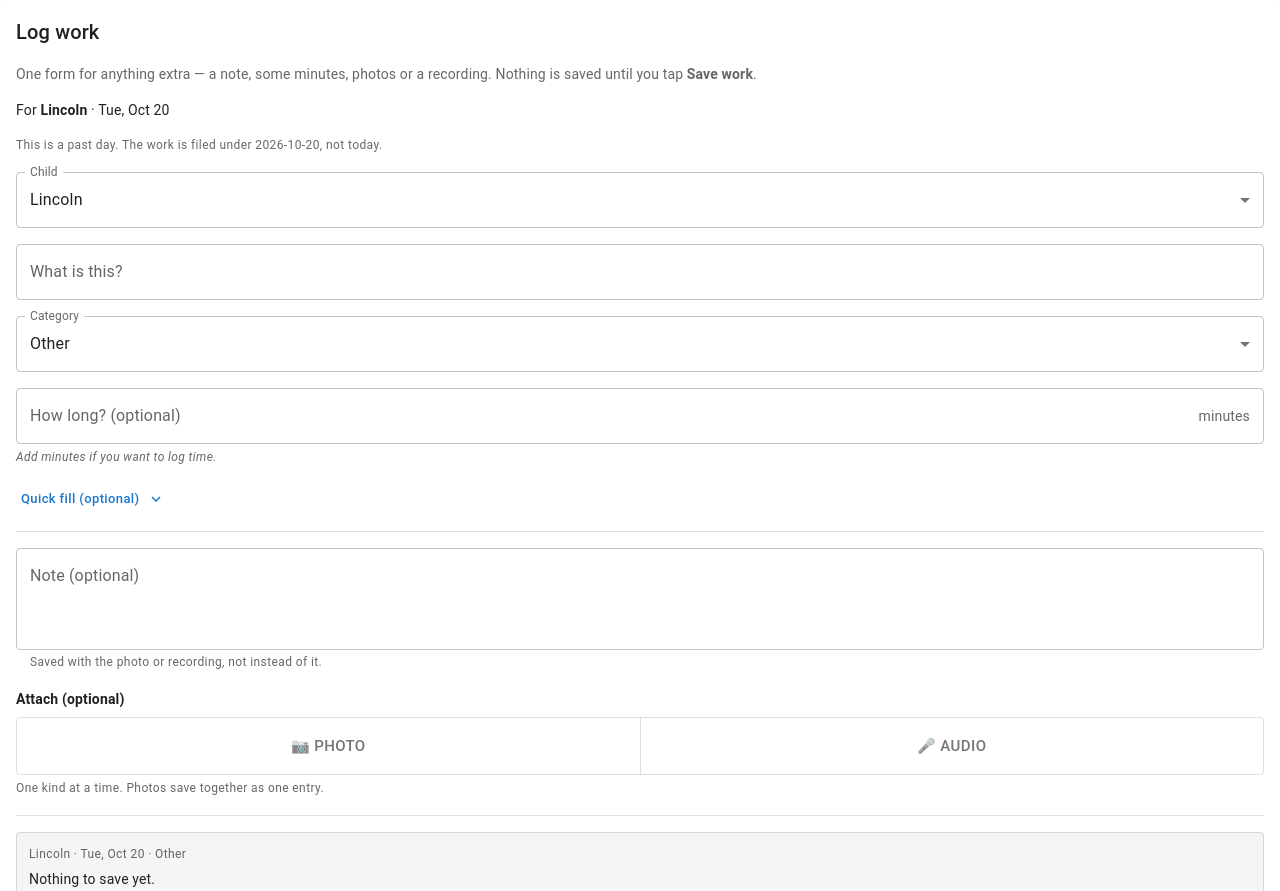
Test: LogWorkCard — Stop waiting after an unanswered hours write › says which child and day it is finishing, and promises nothing it cannot keep
Type "Built a tower" into the text box labelled "Note (optional)" at coordinates (640, 599), box x1=30 y1=564 x2=1250 y2=633
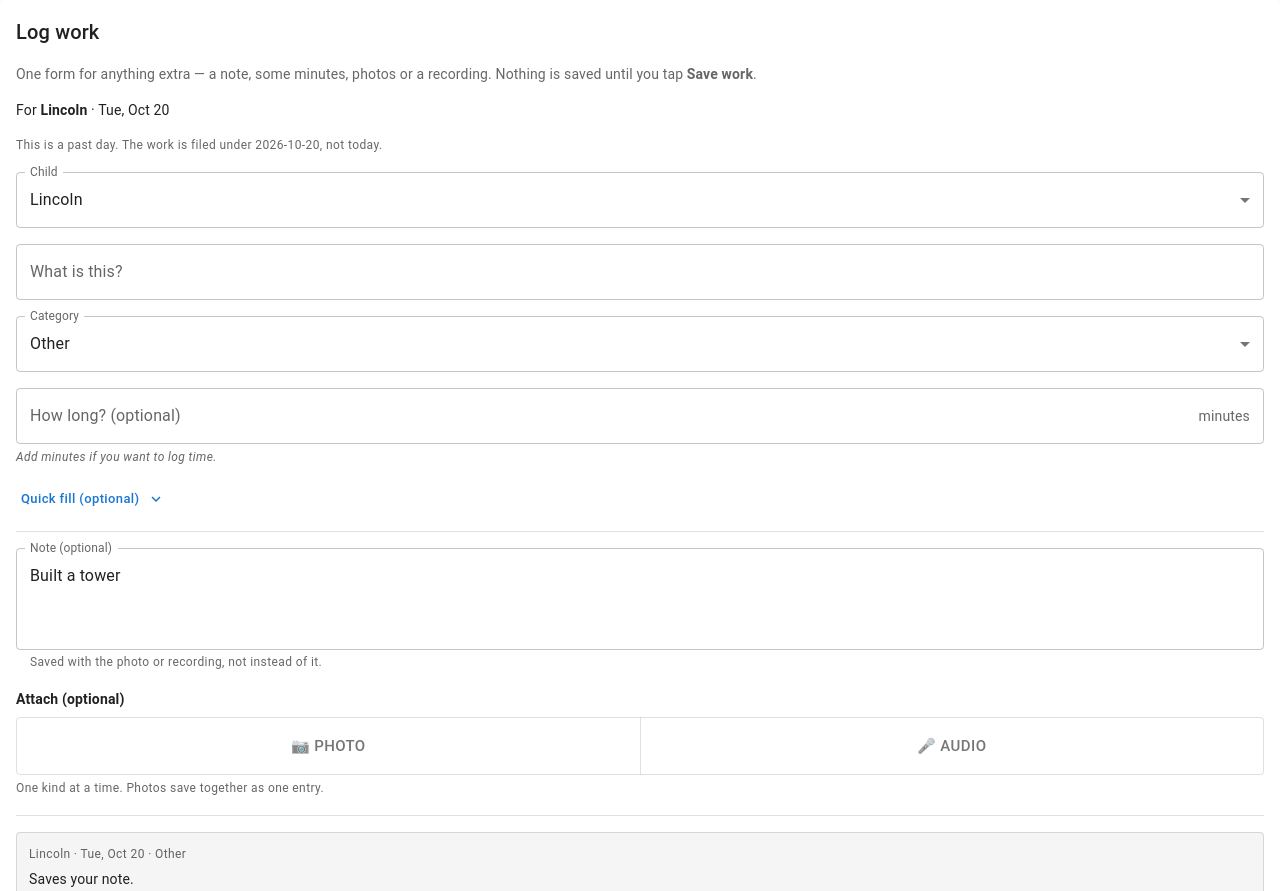
Type "27" into the number field named "Duration in minutes" at coordinates (603, 416), box x1=16 y1=388 x2=1191 y2=444
(page scrolled)
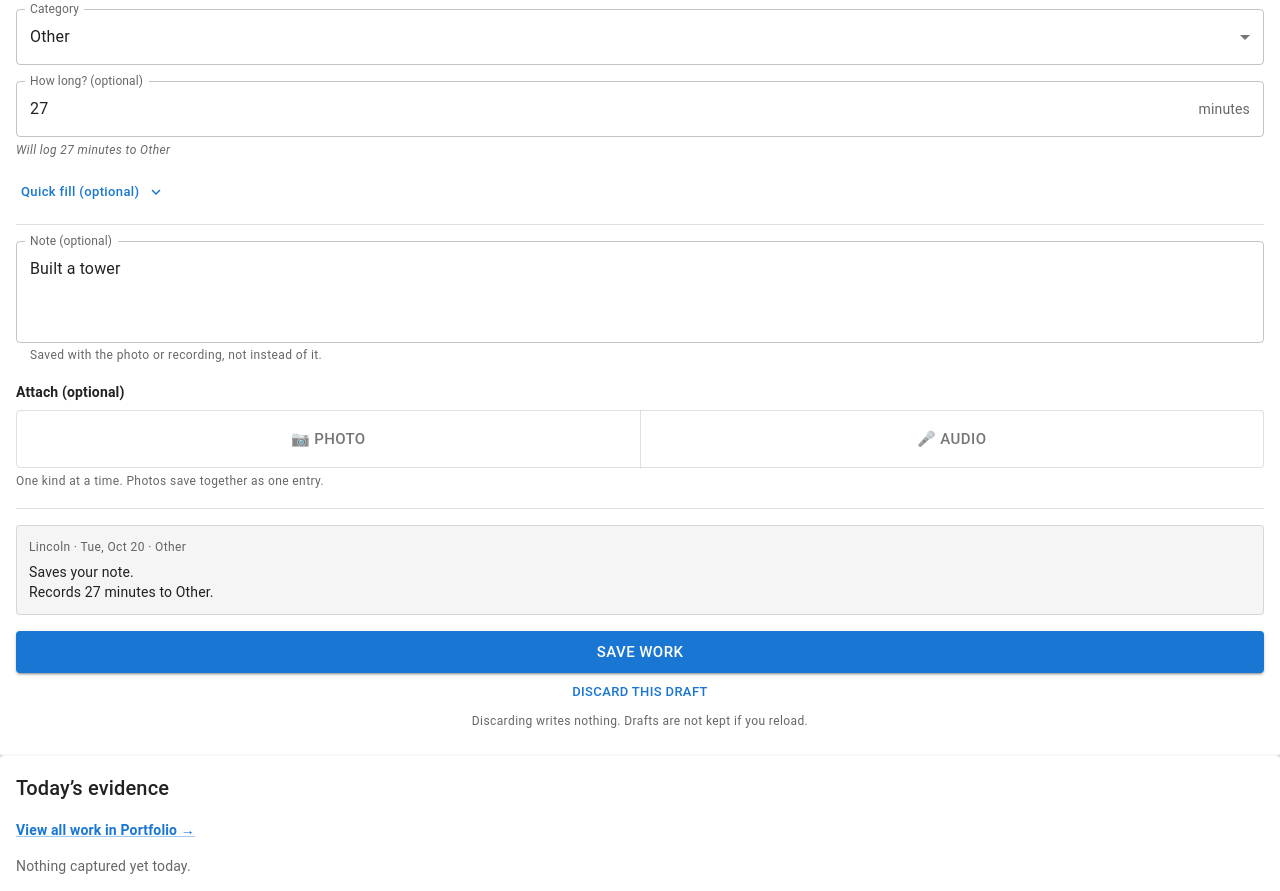
Click the button "Save work" at coordinates (640, 652), box x1=16 y1=631 x2=1264 y2=673
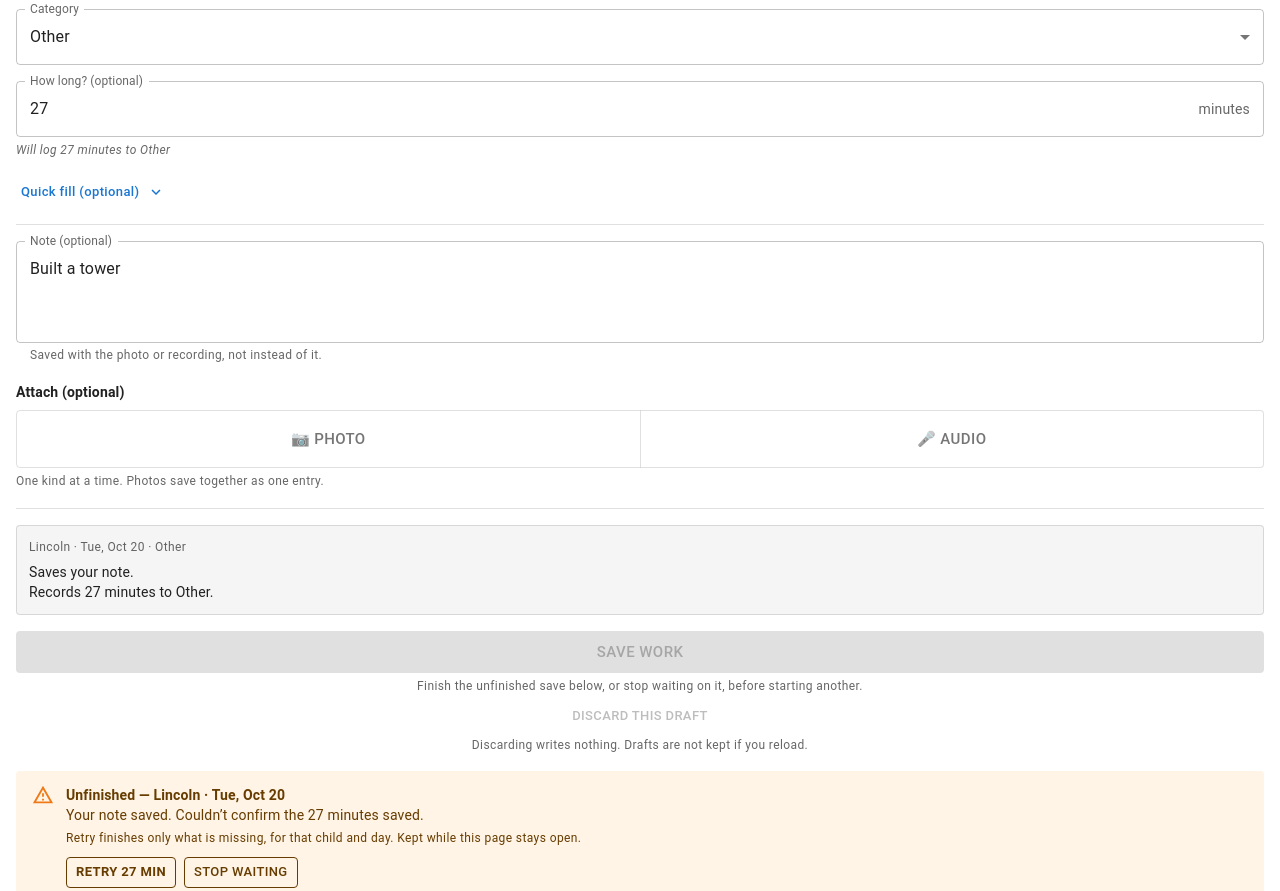
Replace the text in the text box labelled "Note (optional)" with "A different thing" at coordinates (640, 292), box x1=30 y1=257 x2=1250 y2=326
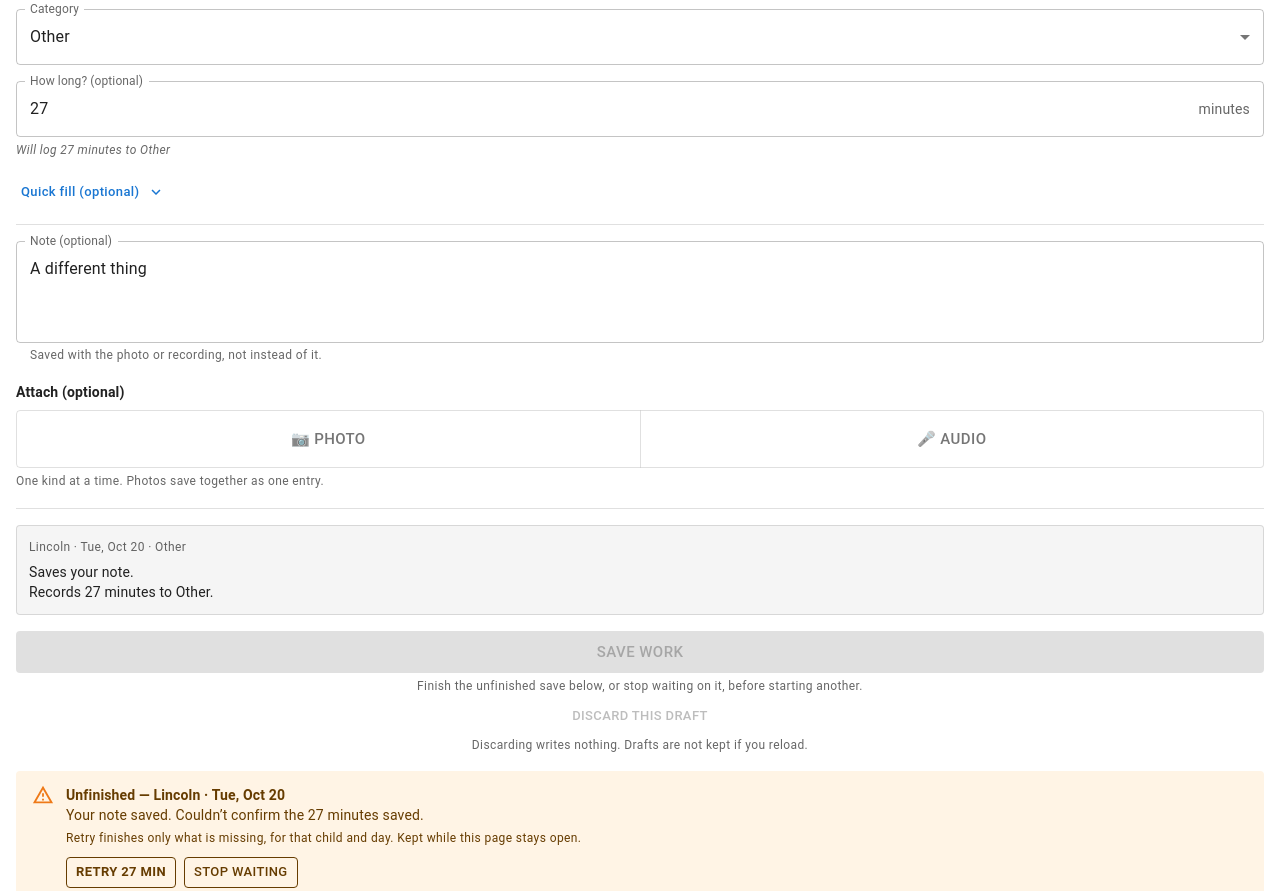
Click the button "Stop waiting" at coordinates (241, 873), box x1=184 y1=857 x2=298 y2=888
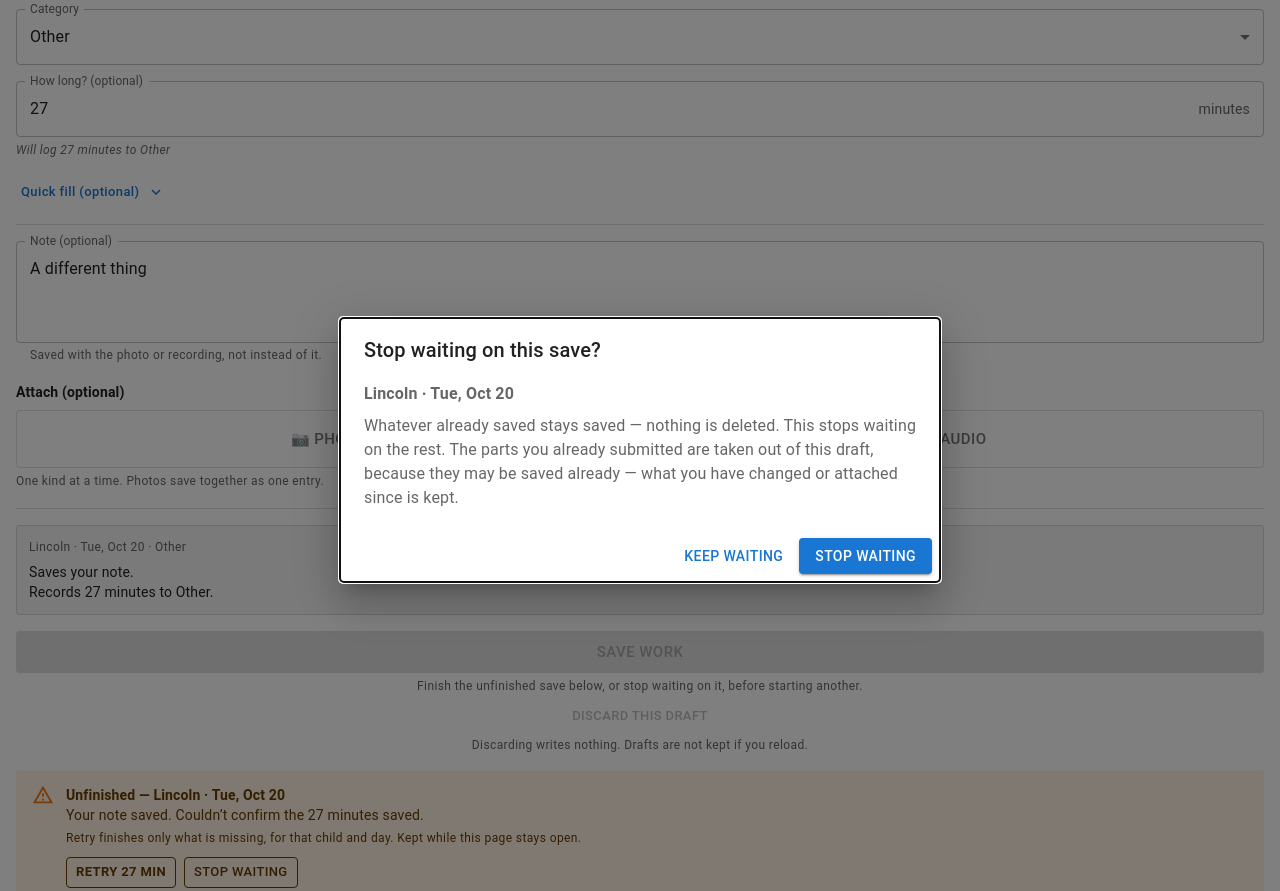
Now the dialog shows "Lincoln · Tue, Oct 20", box x1=340 y1=318 x2=940 y2=582
Now the dialog shows "Whatever already saved stays saved — nothing is deleted.", box x1=364 y1=416 x2=916 y2=507
Now the dialog shows "The parts you already submitted are taken out of this draft, because they may be saved already — what you have changed or attached since is kept.", box x1=364 y1=416 x2=916 y2=507
// Declining does nothing at all.
Click the button "Keep waiting" at coordinates (734, 556), box x1=676 y1=538 x2=791 y2=574
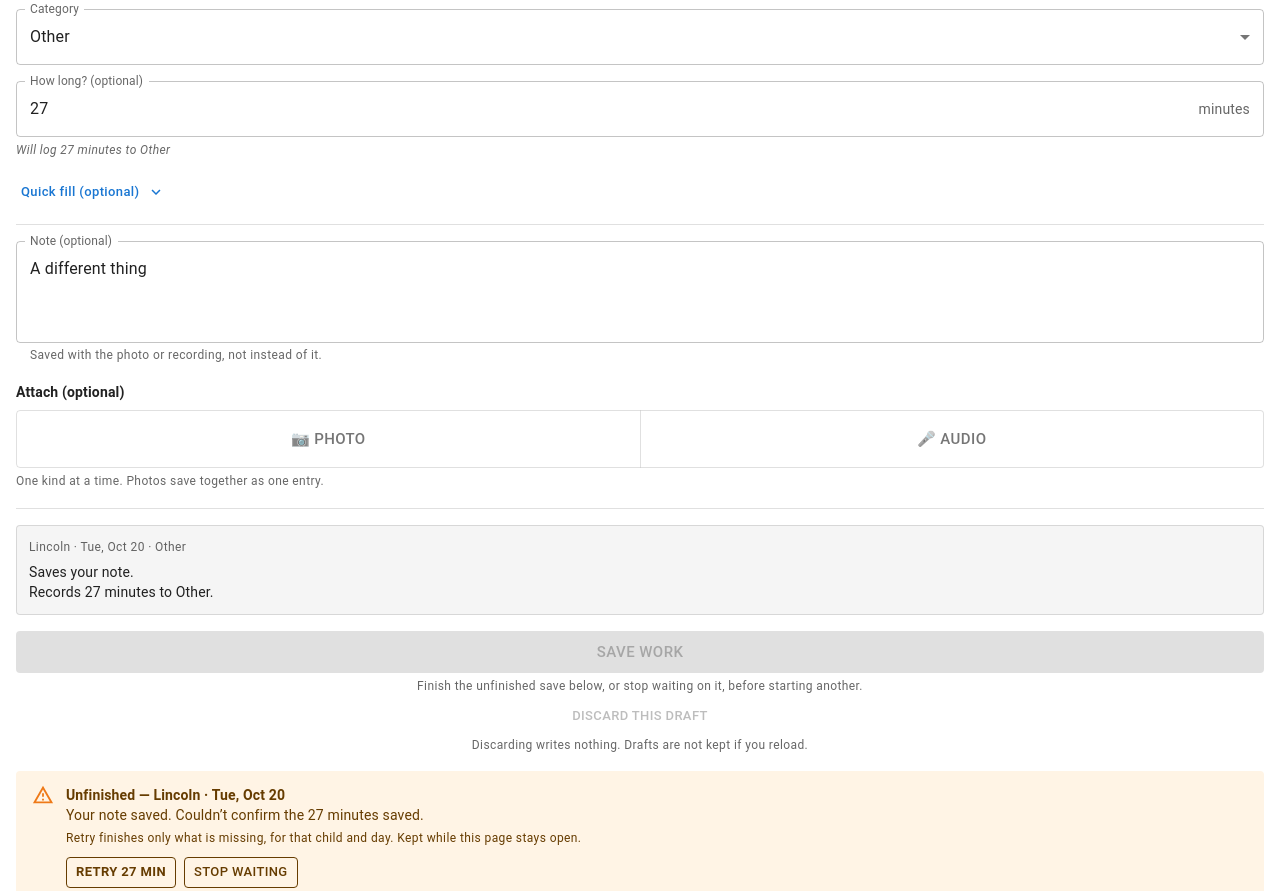
Now the dialog is gone
